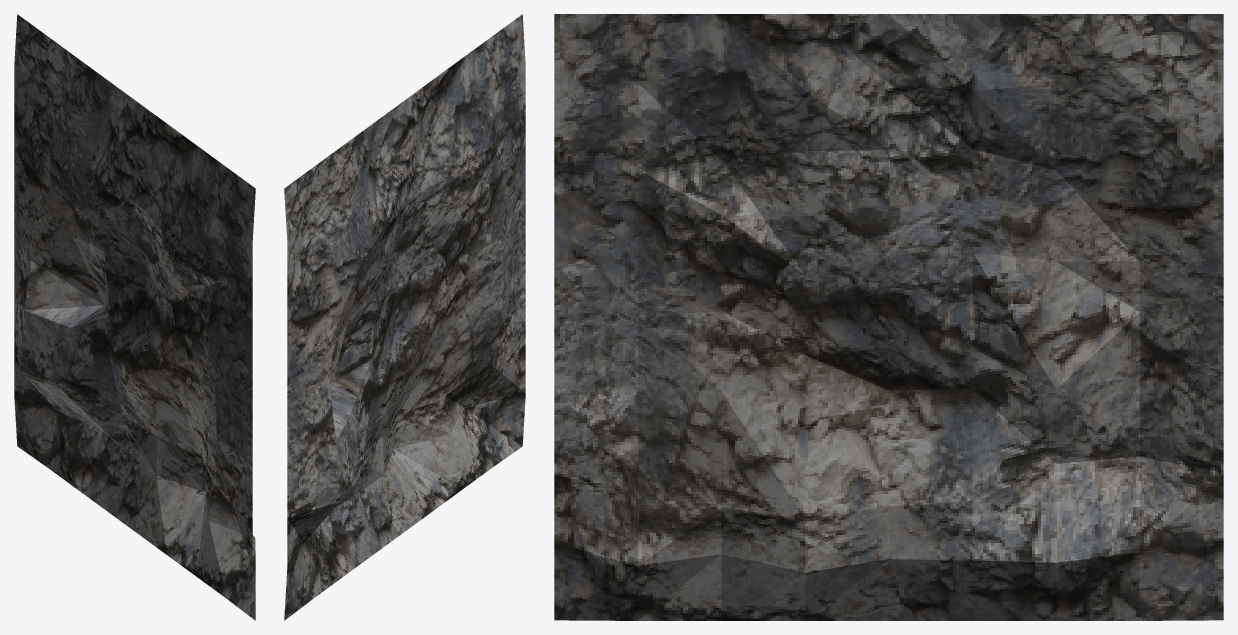
Rendered from 05_wall_01_seamless.glb.
3 views of the same model, side by side, from view 1: azimuth 30°, elevation 25°; view 2: azimuth 150°, elevation 25°; view 3: azimuth 270°, elevation 25° (orthographic). The views are drawn at different scales.
Parts seen in each view (by area): view 1: 05_wall_01_seamless; view 2: 05_wall_01_seamless; view 3: 05_wall_01_seamless.
Boxes of the visible parts, box(x1,y1,x2,y2) form: 05_wall_01_seamless: box(14, 14, 255, 620); 05_wall_01_seamless: box(284, 14, 525, 620); 05_wall_01_seamless: box(554, 14, 1223, 620).
Bounding box in the file's own units: 2.55 × 16 × 16.
Materials: 1 (1 with a texture image).
